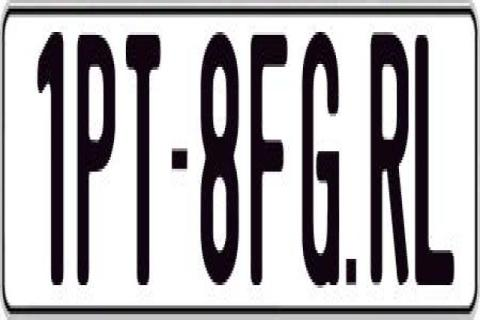0: (199, 26, 240, 288), (35, 32, 65, 300)
F: (248, 29, 284, 297)
G: (301, 26, 338, 282)
L: (414, 29, 454, 294)
P: (74, 29, 114, 282)
R: (366, 32, 412, 291)
T: (126, 29, 160, 285)
